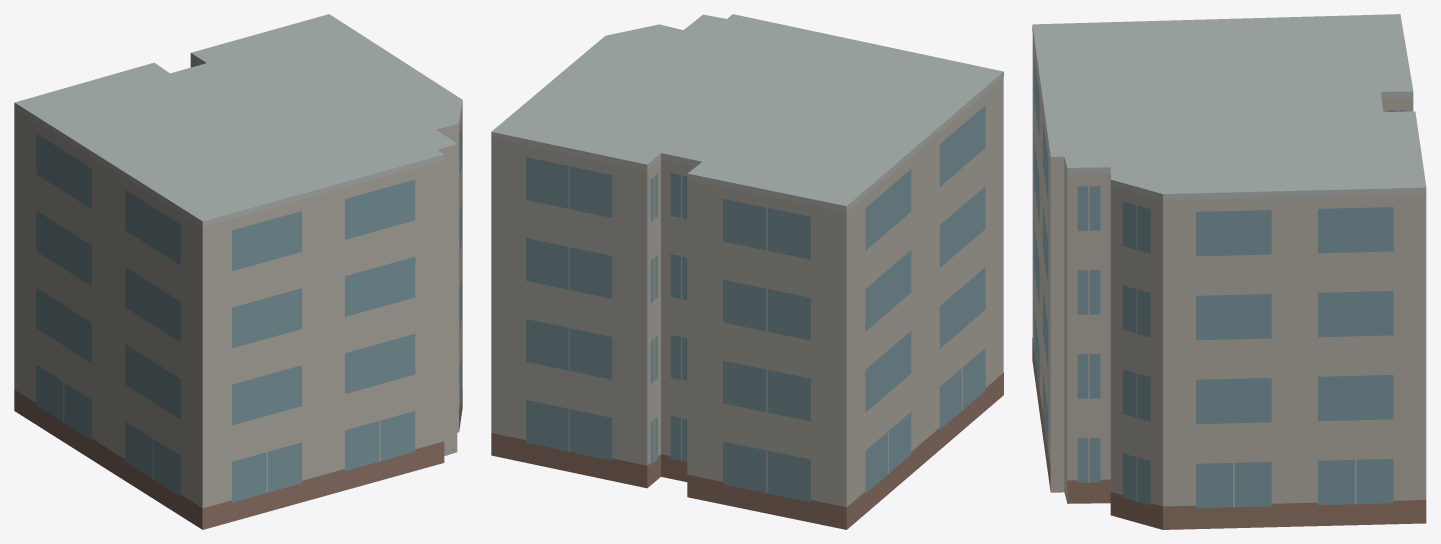
File: survey-upis-32747351.glb
The picture shows the model from 3 angles, left to right: view 1: azimuth 30°, elevation 25°; view 2: azimuth 150°, elevation 25°; view 3: azimuth 270°, elevation 25°; orthographic projection. The views are drawn at different scales.
Parts seen in each view (by area): view 1: survey-upis-32747351.tmp; view 2: survey-upis-32747351.tmp; view 3: survey-upis-32747351.tmp.
Part boxes in pixels (bbox=[...]): survey-upis-32747351.tmp: bbox=[14, 14, 462, 529]; survey-upis-32747351.tmp: bbox=[491, 14, 1003, 529]; survey-upis-32747351.tmp: bbox=[1032, 14, 1426, 529].
Bounding box in the file's own units: 15.21 × 13.21 × 14.06.
